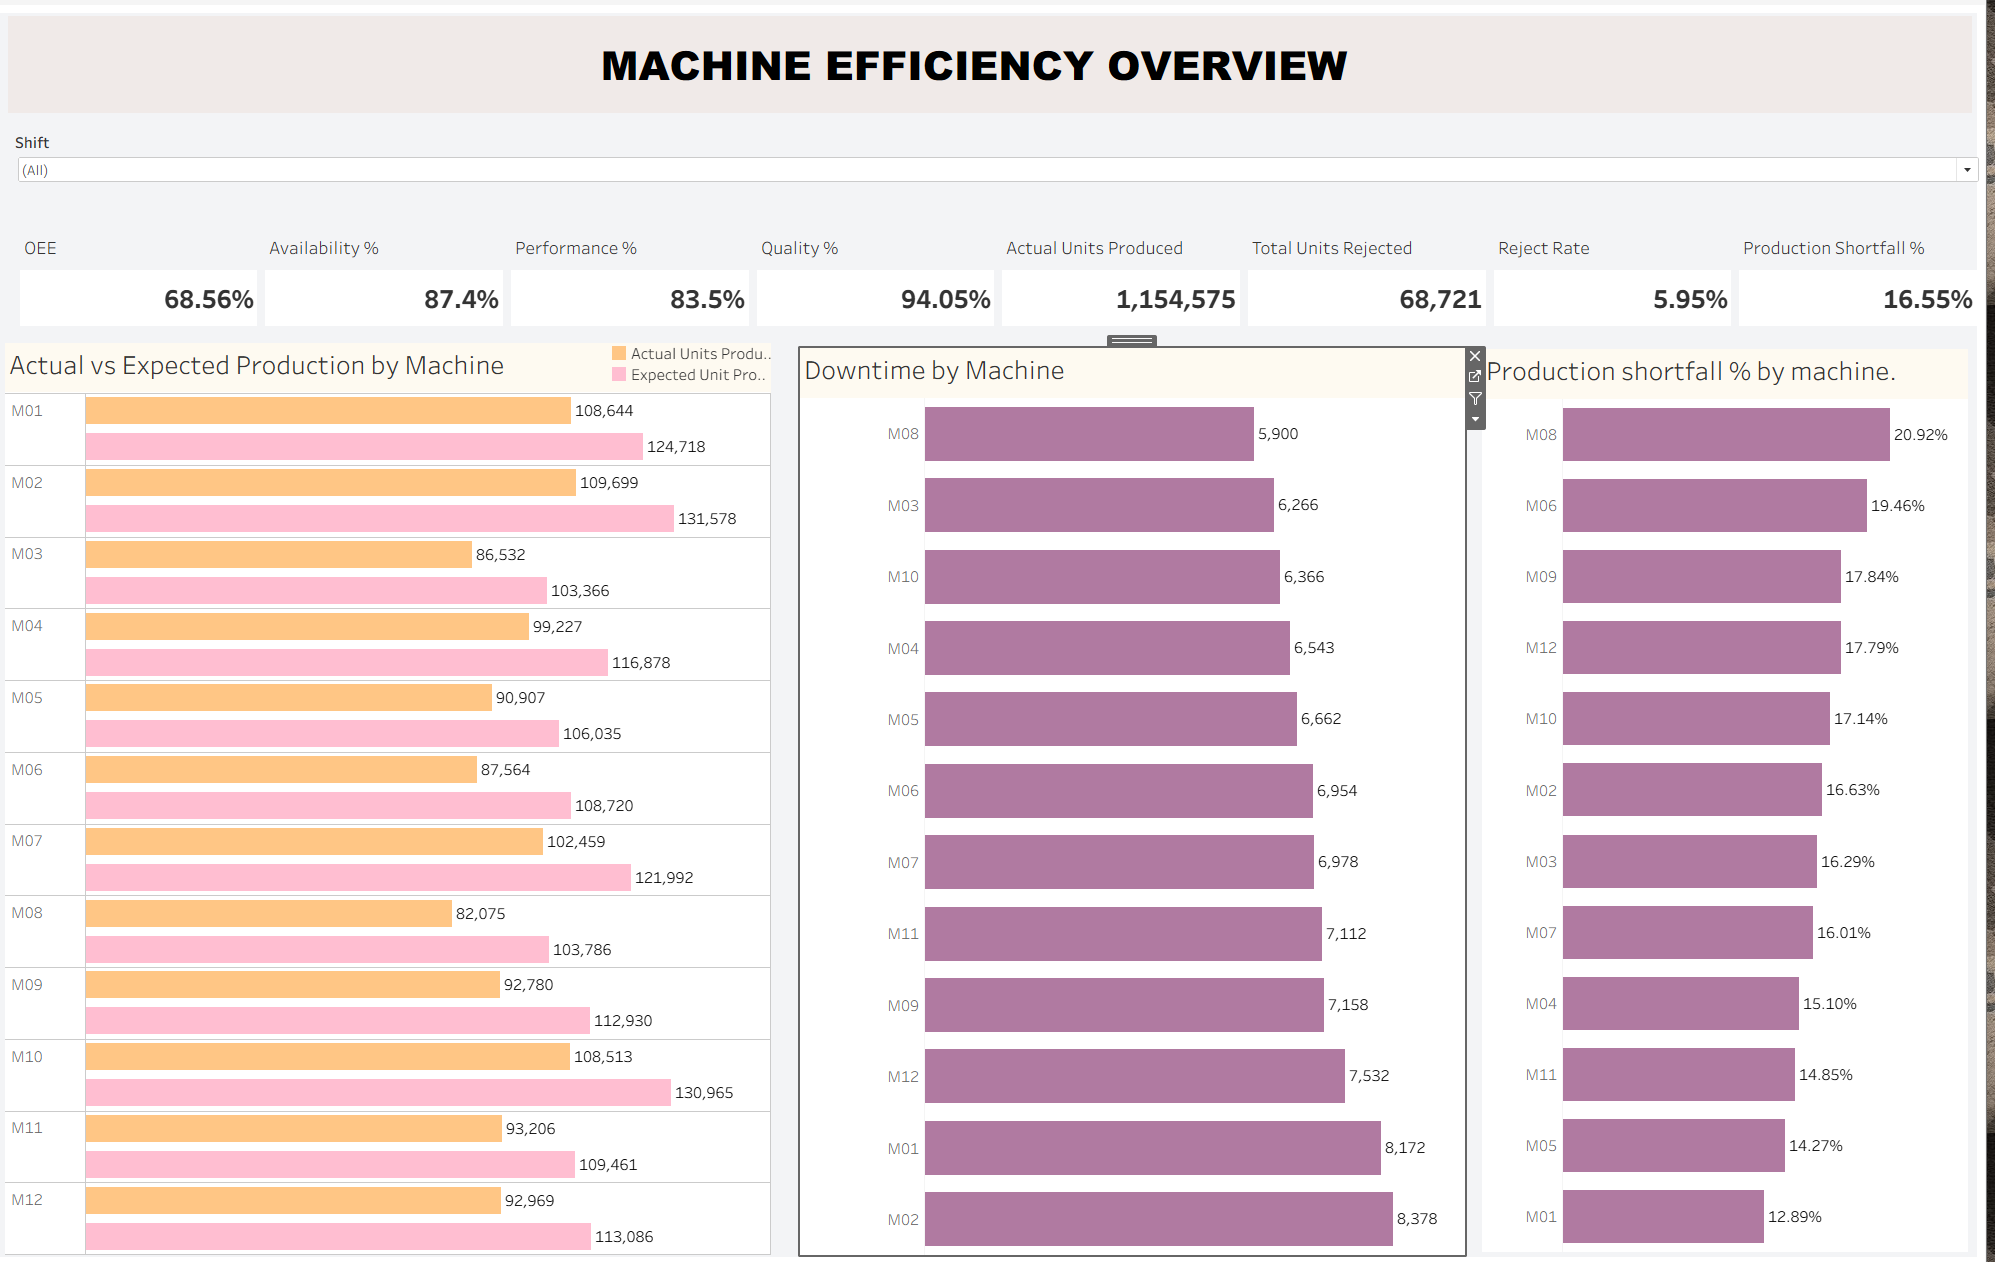

Layout of this report page (visuals, bound fields, positions):
{"tool":"tableau","page":{"name":"MACHINE EFFICIENCY OVERVIEW","canvas":[1000,1000],"units":"permille","ordinal":0},"visuals":[{"type":"text","box":[8.8,8.7,965.1,76.9]},{"type":"blank","box":[974,8.7,19.3,76.9]},{"type":"filter","title":"Actual Units Produced","param":"[federated.0d7sef70cgx2ea15vlz0q0g6bkde].[none:Shift:nk]","box":[10.3,97.7,990.3,63.7]},{"type":"worksheet","title":"OEE","mark":"Automatic","box":[13,176.1,123.1,81.7]},{"type":"worksheet","title":"Availability %","mark":"Automatic","box":[136.1,176.1,123.1,81.7]},{"type":"worksheet","title":"Performance %","mark":"Automatic","box":[259.2,176.1,123.1,81.7]},{"type":"worksheet","title":"Quality %","mark":"Automatic","box":[382.3,176.1,123.1,81.7]},{"type":"worksheet","title":"Actual Units Produced","mark":"Automatic","box":[505.4,176.1,123.1,81.7]},{"type":"worksheet","title":"Total Units Rejected","mark":"Automatic","box":[628.6,176.1,123.1,81.7]},{"type":"worksheet","title":"Reject Rate ","mark":"Automatic","box":[751.7,176.1,123.1,81.7]},{"type":"worksheet","title":"Production Shortfall %","mark":"Automatic","box":[874.8,176.1,123.1,81.7]},{"type":"legend","title":"Actual vs Expected Production by Machine","param":"[federated.0d7sef70cgx2ea15vlz0q0g6bkde].[:Measure Names]","box":[310.2,267.8,85.1,49.4]},{"type":"worksheet","title":"Actual vs Expected Production by Machine","mark":"Automatic","rows":["MachineID"],"box":[7.6,268,384.1,467.1]},{"type":"worksheet","title":"Downtime by Machine","mark":"Automatic","rows":["MachineID"],"cols":["Calculation_0445087982710788"],"box":[405.9,272,333.3,461.5]},{"type":"worksheet","title":"Production shortfall % by machine.","mark":"Automatic","rows":["MachineID"],"cols":["Calculation_0445088276316179"],"box":[746.3,274.4,242.2,452]},{"type":"worksheet","title":"Machine Efficiency Components","mark":"Automatic","cols":["MachineID"],"box":[3.3,739.9,988.5,241.1]},{"type":"legend","title":"Machine Efficiency Components","param":"[federated.0d7sef70cgx2ea15vlz0q0g6bkde].[:Measure Names]","box":[214.4,741.5,197.5,27.8]}]}

Visuals, with their boxes on the dashboard's canvas, which has no fixed pixel size, in thousandths of its width and height (x1, y1, x2, y2). These are canvas units, not pixel positions in the 1995x1262 screenshot, which may show the page scaled, cropped or inside an application window:
text: detection(9, 9, 974, 86)
blank: detection(974, 9, 993, 86)
"Actual Units Produced" filter: detection(10, 98, 1001, 161)
"OEE" worksheet: detection(13, 176, 136, 258)
"Availability %" worksheet: detection(136, 176, 259, 258)
"Performance %" worksheet: detection(259, 176, 382, 258)
"Quality %" worksheet: detection(382, 176, 505, 258)
"Actual Units Produced" worksheet: detection(505, 176, 628, 258)
"Total Units Rejected" worksheet: detection(629, 176, 752, 258)
"Reject Rate " worksheet: detection(752, 176, 875, 258)
"Production Shortfall %" worksheet: detection(875, 176, 998, 258)
"Actual vs Expected Production by Machine" legend: detection(310, 268, 395, 317)
"Actual vs Expected Production by Machine" worksheet: detection(8, 268, 392, 735)
"Downtime by Machine" worksheet: detection(406, 272, 739, 734)
"Production shortfall % by machine." worksheet: detection(746, 274, 988, 726)
"Machine Efficiency Components" worksheet: detection(3, 740, 992, 981)
"Machine Efficiency Components" legend: detection(214, 742, 412, 769)
